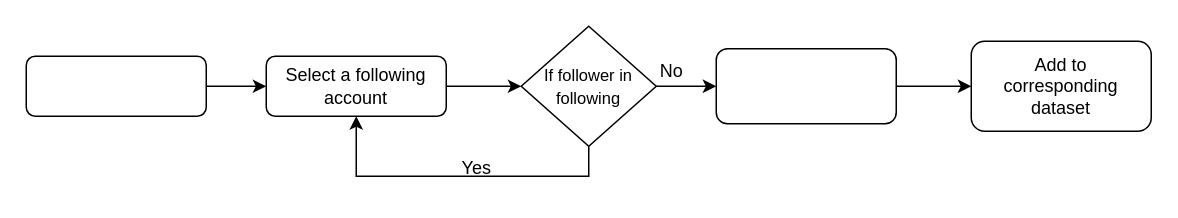
Image size: 1178x218. Some labels were removed from this diagram. Each missing label, with the centre of its shape:
"Choose a Public Profile" belongs at (x=115, y=85).
"Classify as Business or Influencer" belongs at (x=805, y=85).
